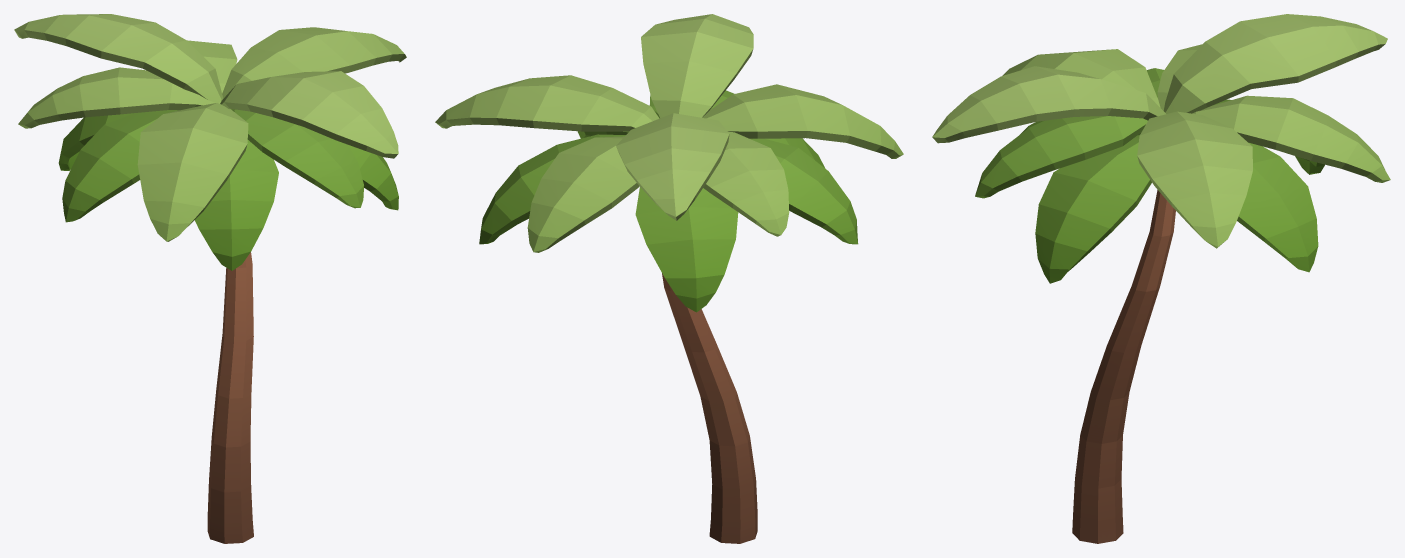
The model's file is palm-tree-bent.glb.
3 views of the same model, side by side, from view 1: azimuth 30°, elevation 25°; view 2: azimuth 150°, elevation 25°; view 3: azimuth 270°, elevation 25° (orthographic). The views are drawn at different scales.
Parts seen in each view (by area): view 1: palm_tree_bent; view 2: palm_tree_bent; view 3: palm_tree_bent.
Part boxes in pixels (x1,y1,x2,y2): palm_tree_bent: (14,14,406,543); palm_tree_bent: (435,14,903,543); palm_tree_bent: (932,14,1390,543).
Size of the model in its own units: 6.09 by 7.11 by 6.08.
Materials: 1 (1 with a texture image).
